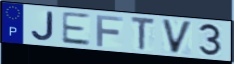3: (197, 22, 224, 58)
E: (60, 10, 92, 47)
F: (95, 13, 126, 48)
J: (30, 10, 56, 42)
T: (130, 15, 157, 52)
V: (160, 18, 195, 56)
